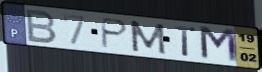7: (62, 13, 88, 47)
B: (25, 8, 59, 45)
M: (197, 25, 241, 65), (127, 19, 168, 56)
P: (99, 17, 131, 50)
T: (173, 24, 198, 58)
